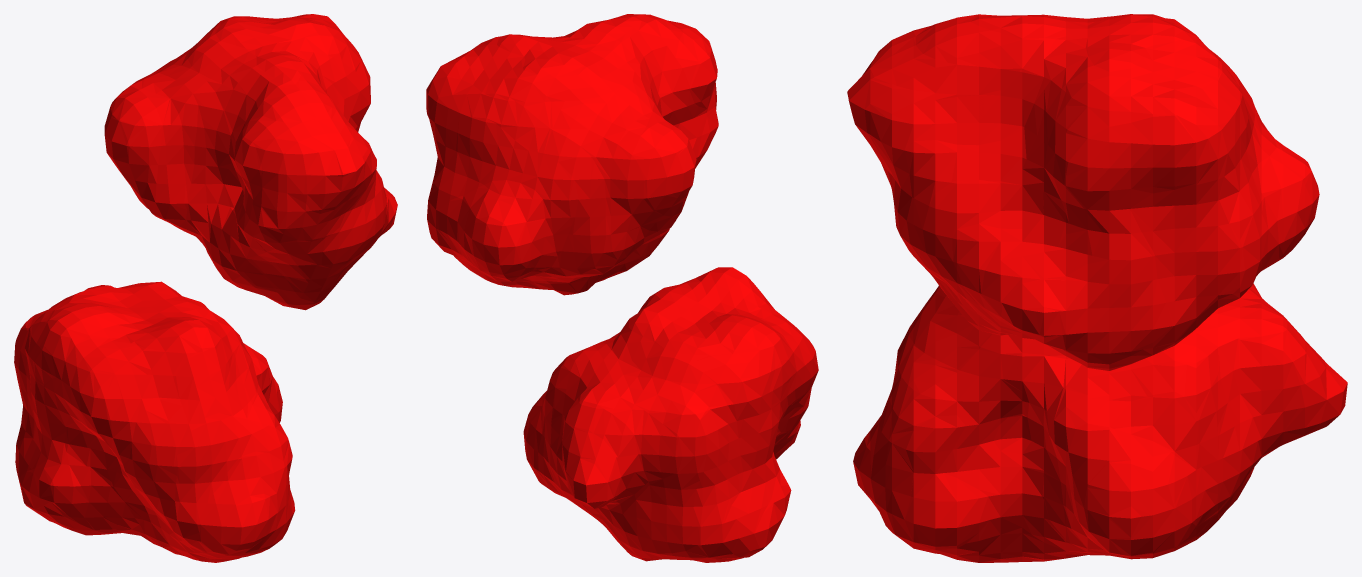
Rendered from gmhB_coarse.dae.
3 views of the same model, side by side, from view 1: azimuth 30°, elevation 25°; view 2: azimuth 150°, elevation 25°; view 3: azimuth 270°, elevation 25° (orthographic). The views are drawn at different scales.
Visible parts, largest first — view 1: gmhB; view 2: gmhB; view 3: gmhB.
Boxes of the visible parts, x1,y1,x2,y2 form: gmhB: [14, 14, 397, 562]; gmhB: [426, 14, 818, 562]; gmhB: [847, 14, 1347, 562].
Bounding box in the file's own units: 55.88 × 75.46 × 57.31.
